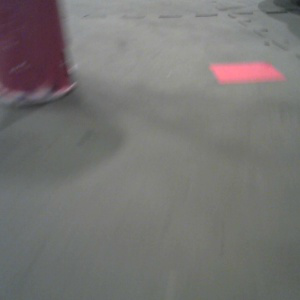middle: (1, 1, 80, 107)
